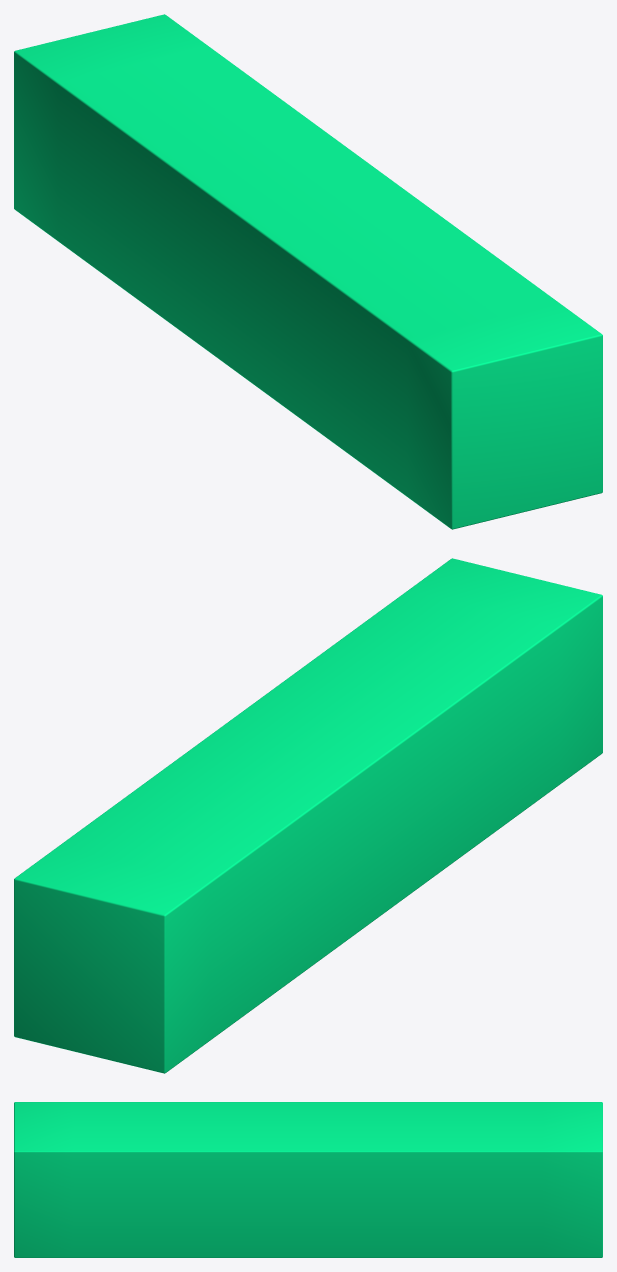
Rendered from LoopDreams_VR_Assets_R1_GreenBlock.fbx.
The picture shows the model from 3 angles, top to bottom: view 1: azimuth 30°, elevation 25°; view 2: azimuth 150°, elevation 25°; view 3: azimuth 270°, elevation 25°; orthographic projection. The views are drawn at different scales.
Parts seen in each view (by area): view 1: Green_Block; view 2: Green_Block; view 3: Green_Block.
Boxes of the visible parts, box(x1,y1,x2,y2) form: Green_Block: box(14, 14, 602, 529); Green_Block: box(14, 558, 602, 1073); Green_Block: box(14, 1102, 602, 1257).
Size of the model in its own units: 100 by 100 by 500.
